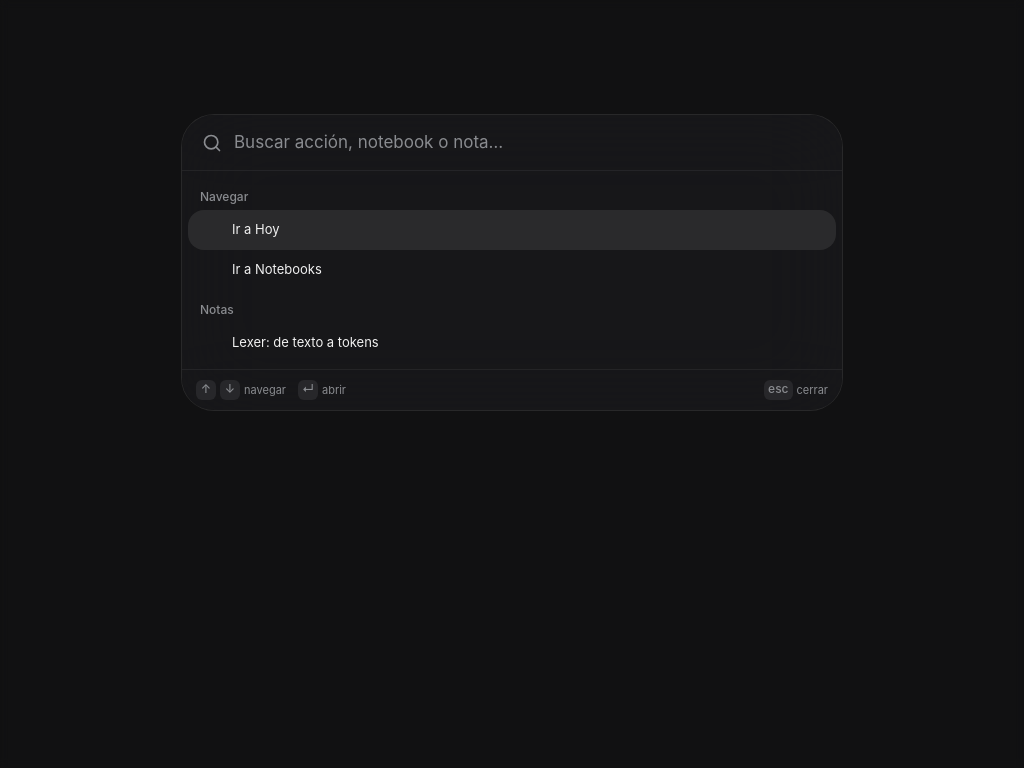
Test: sin resultados avisa en vez de mostrar una lista vacía
Type "zzz" into the dropdown with placeholder "Buscar acción, notebook o nota…" at (528, 143), box [234,130,822,155]
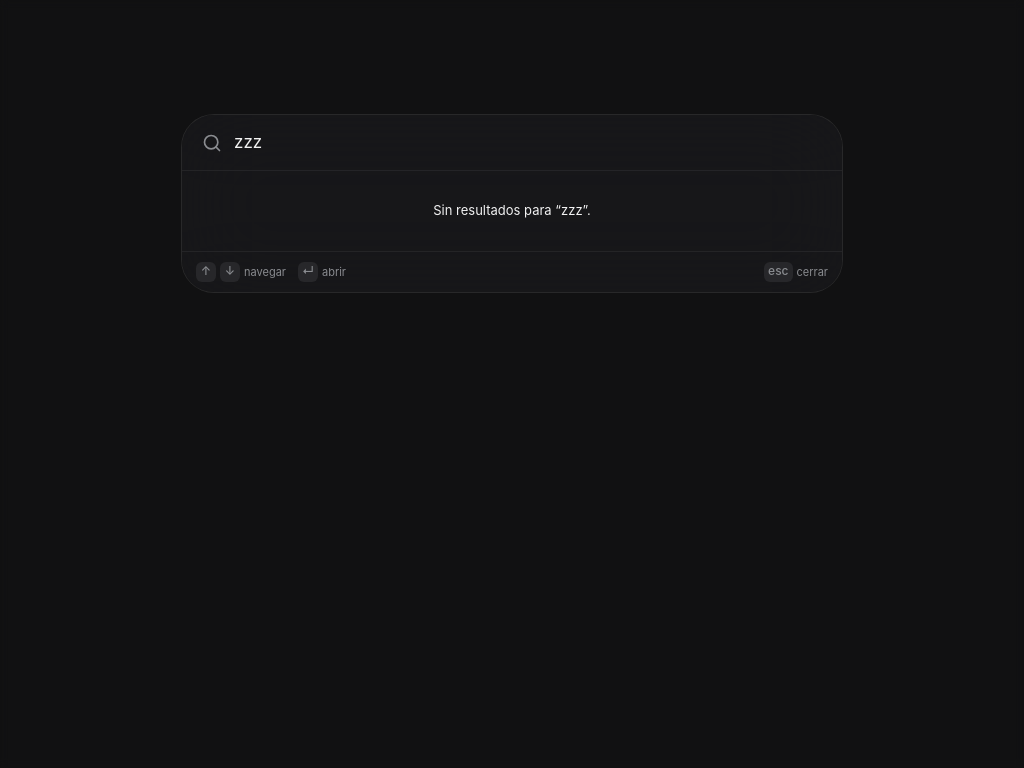
Expected: the text "Sin resultados para “zzz”." is shown, [433,202,591,218]
